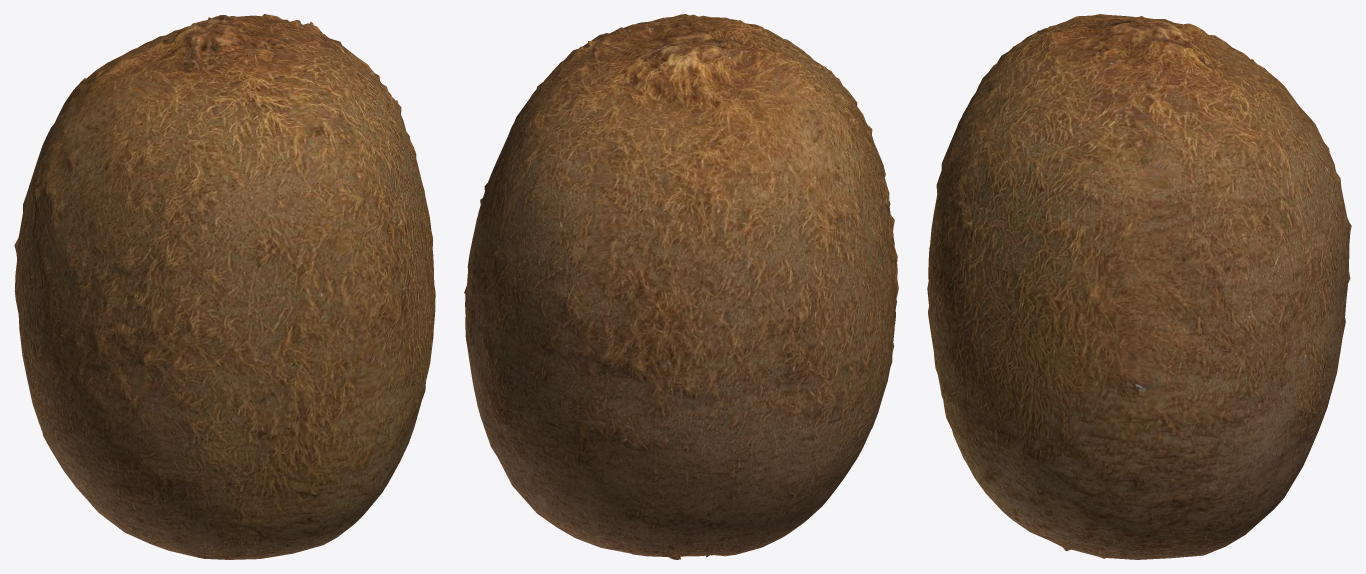
The model's file is food_kiwi_01_4k-transformed.glb.
3 views of the same model, side by side, from view 1: azimuth 30°, elevation 25°; view 2: azimuth 150°, elevation 25°; view 3: azimuth 270°, elevation 25° (orthographic).
Parts seen in each view (by area): view 1: food_kiwi_01; view 2: food_kiwi_01; view 3: food_kiwi_01.
Boxes of the visible parts, x1,y1,x2,y2 form: food_kiwi_01: (14, 14, 435, 559); food_kiwi_01: (464, 14, 898, 559); food_kiwi_01: (927, 14, 1351, 559).
Size of the model in its own units: 0.0695 by 0.0901 by 0.0686.
1 material, 1 textured.
